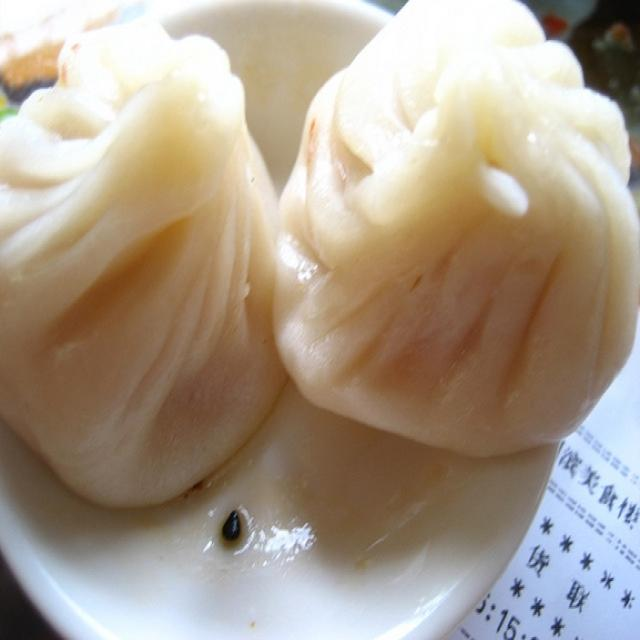带馅早点: (4, 11, 624, 628)
